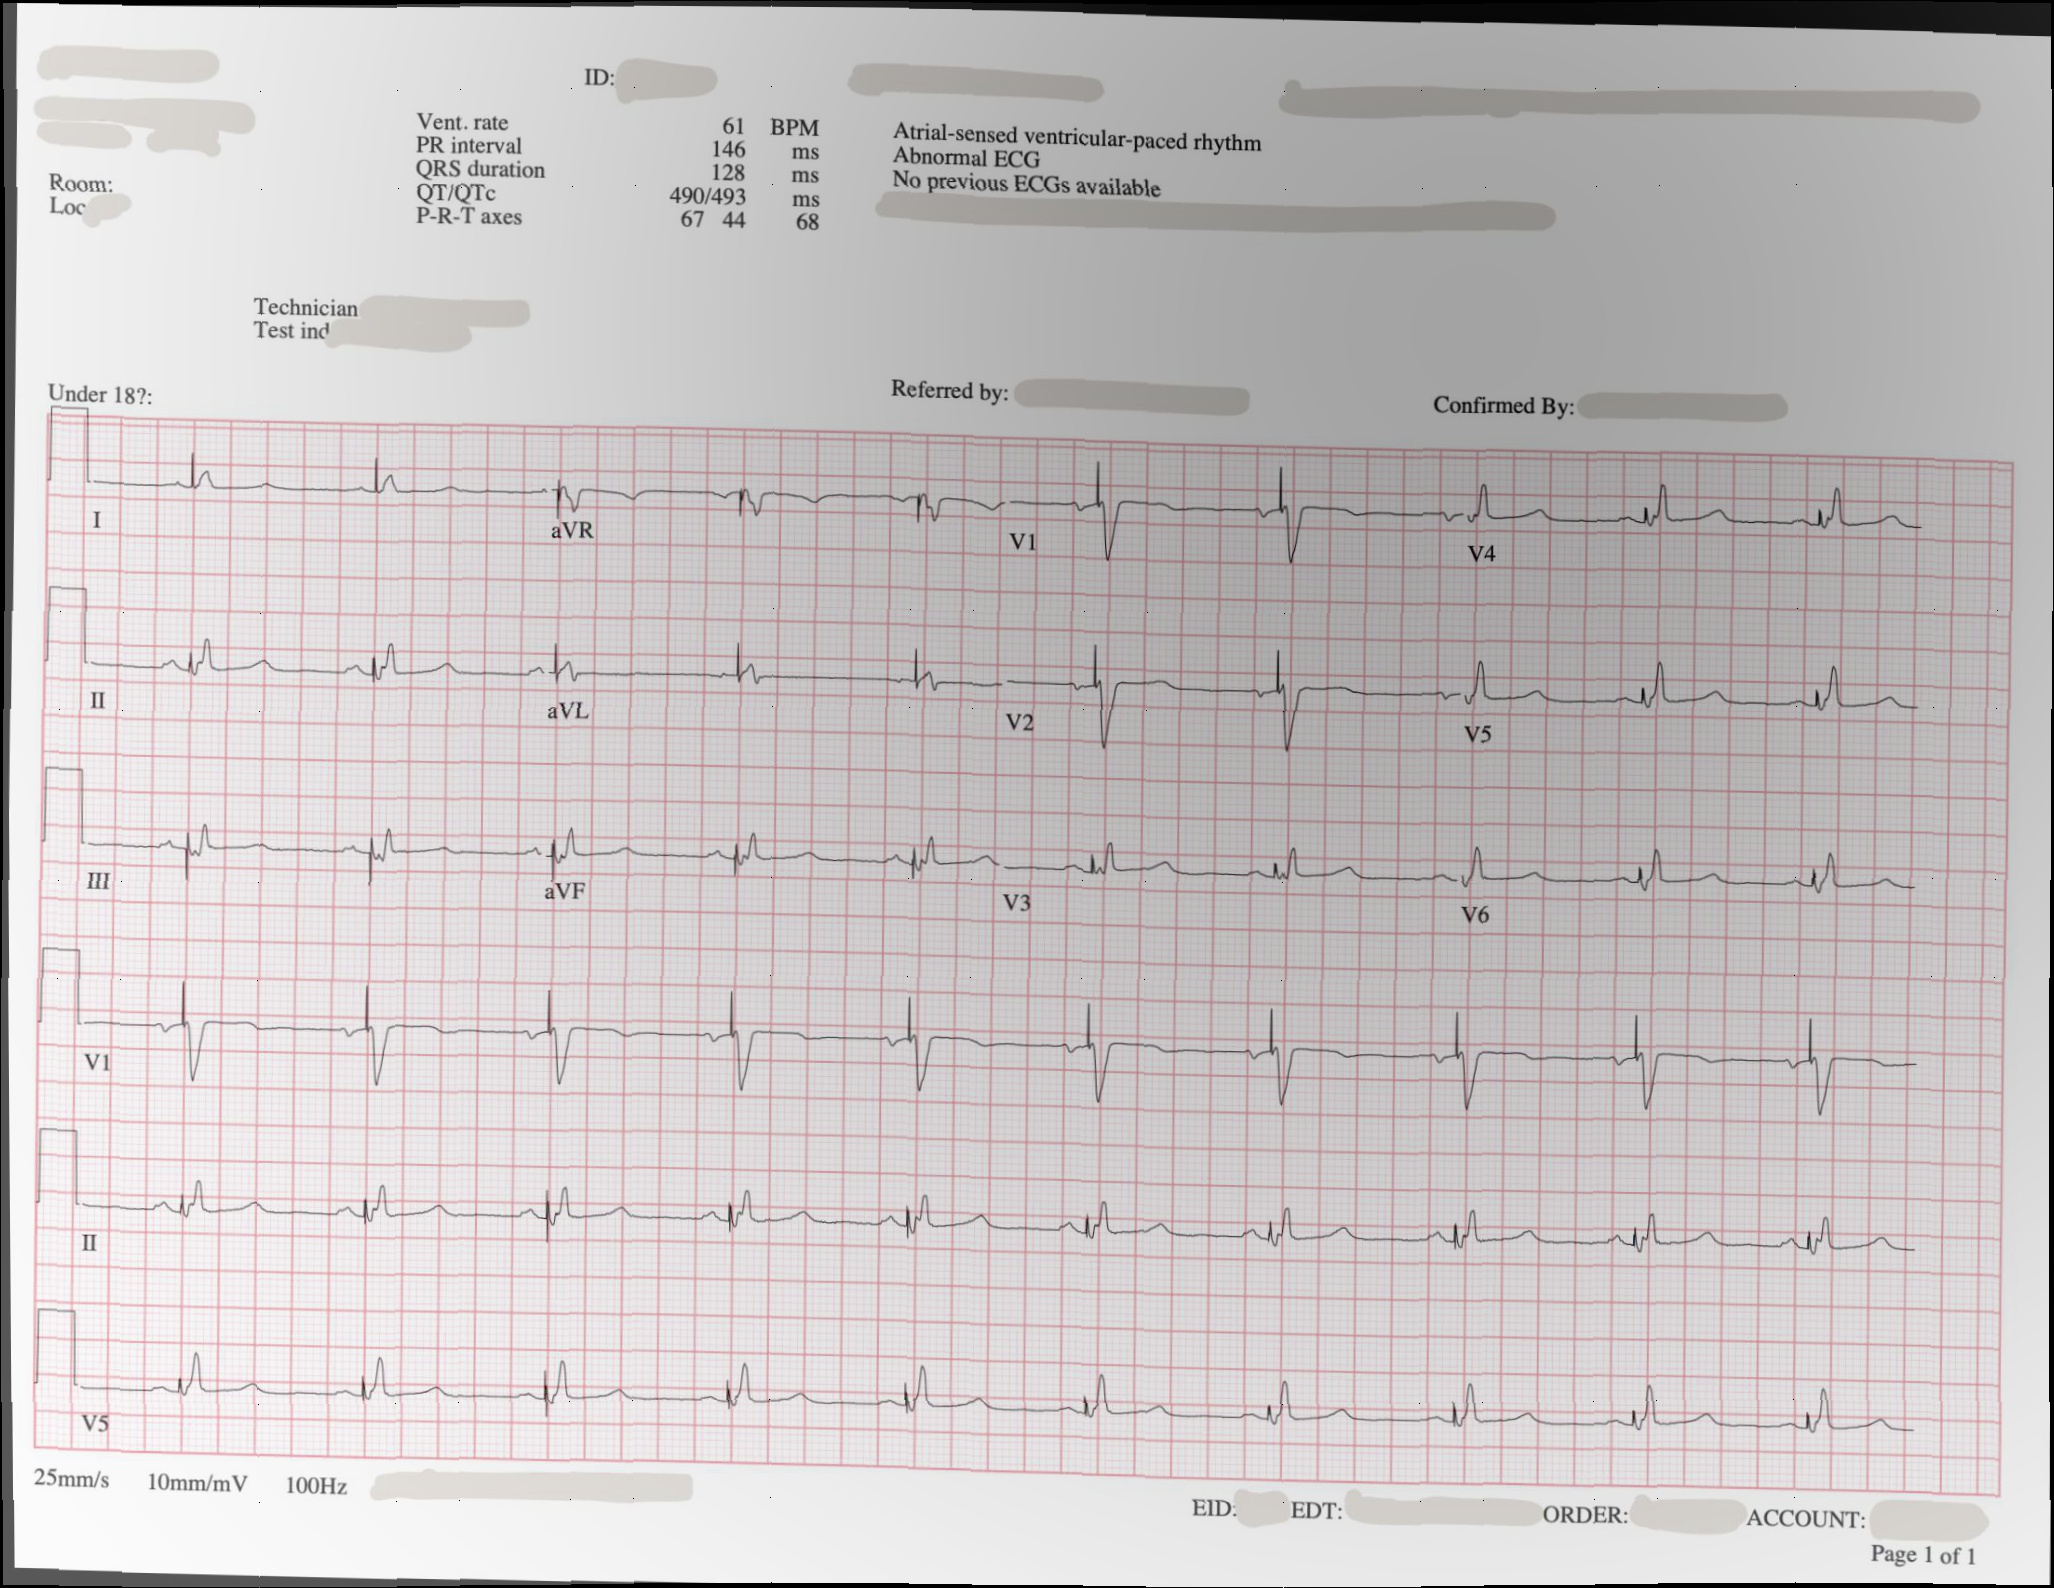Lead_I: (68, 442, 555, 560)
Lead_II: (72, 604, 552, 744)
Lead_III: (75, 792, 552, 929)
Lead_II_ext: (70, 1138, 1934, 1339)
Lead_V1: (1004, 439, 1457, 597)
Lead_V2: (994, 626, 1459, 771)
Lead_V3: (994, 814, 1455, 952)
Lead_V4: (1455, 455, 1936, 604)
Lead_V5: (1460, 626, 1936, 774)
Lead_V6: (1454, 809, 1944, 971)
Lead_aVF: (532, 806, 999, 949)
Lead_aVL: (540, 629, 1000, 752)
Lead_aVR: (537, 442, 1004, 592)
